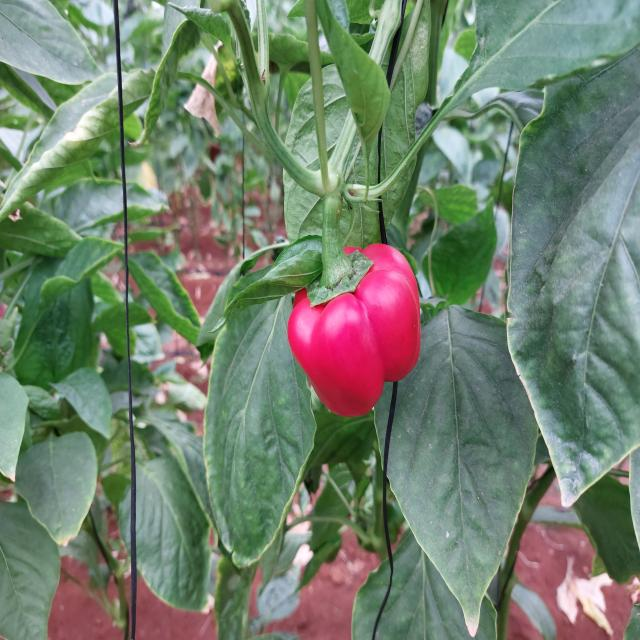Red-Ready-to-Harvest: (284, 242, 428, 425)
